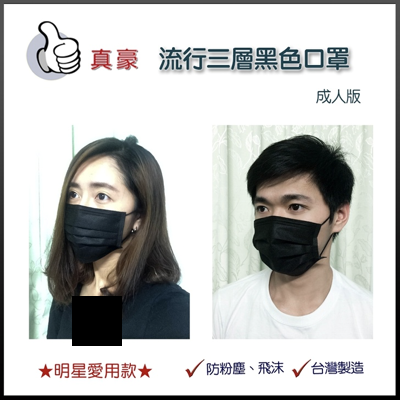with_mask: (254, 189, 332, 276), (65, 179, 137, 263)
